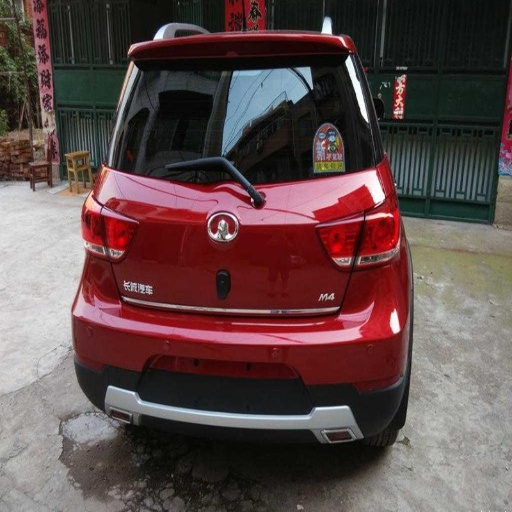back_bumper: (70, 249, 407, 443)
tailgate: (298, 170, 366, 311)
